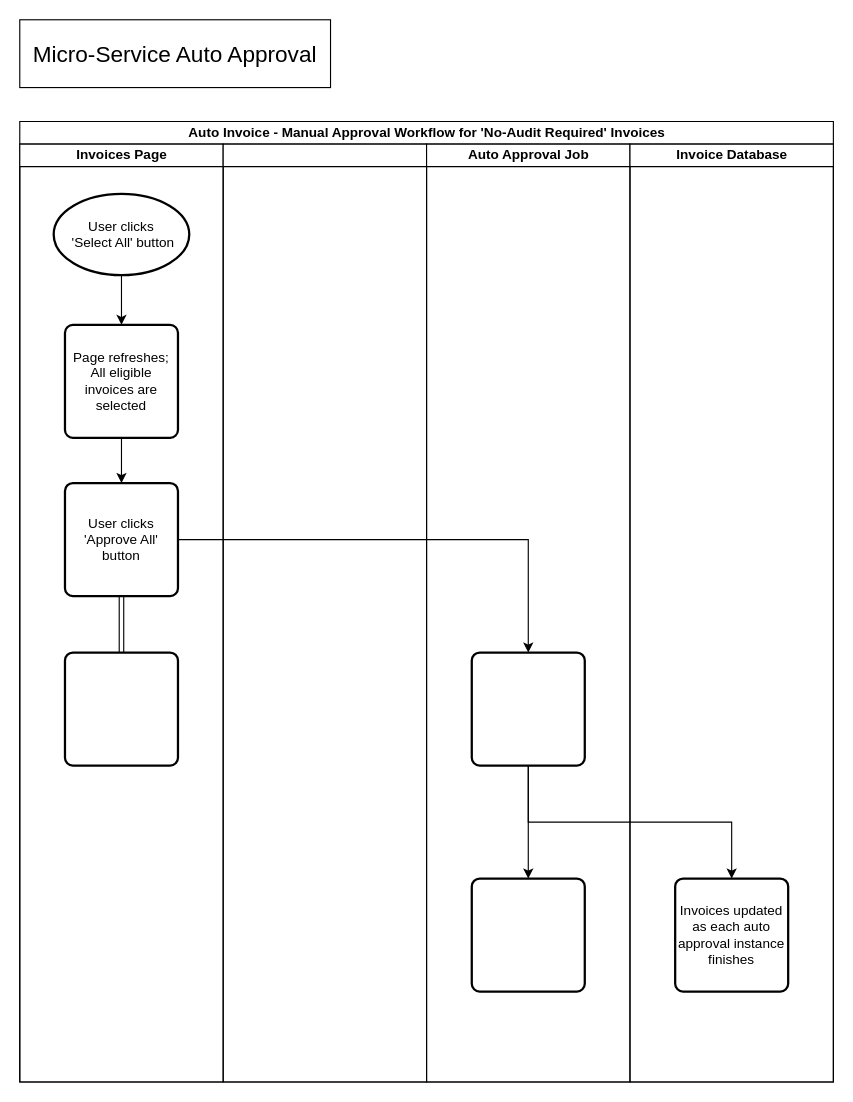
This 853x1102 diagram has some shape labels left out. Here are the shapes that lost their labels. From the top down, the centre of each, then its label:
At (x=324, y=612): "Invoice Details Page".
At (x=121, y=708): "Page refreshes; User is free to use the system as needed".
At (x=527, y=708): "Auto Approval Job Executes: One instance of the job is spun up for each invoice.".
At (x=527, y=934): "Alerts user that job is done; includes output from job".
